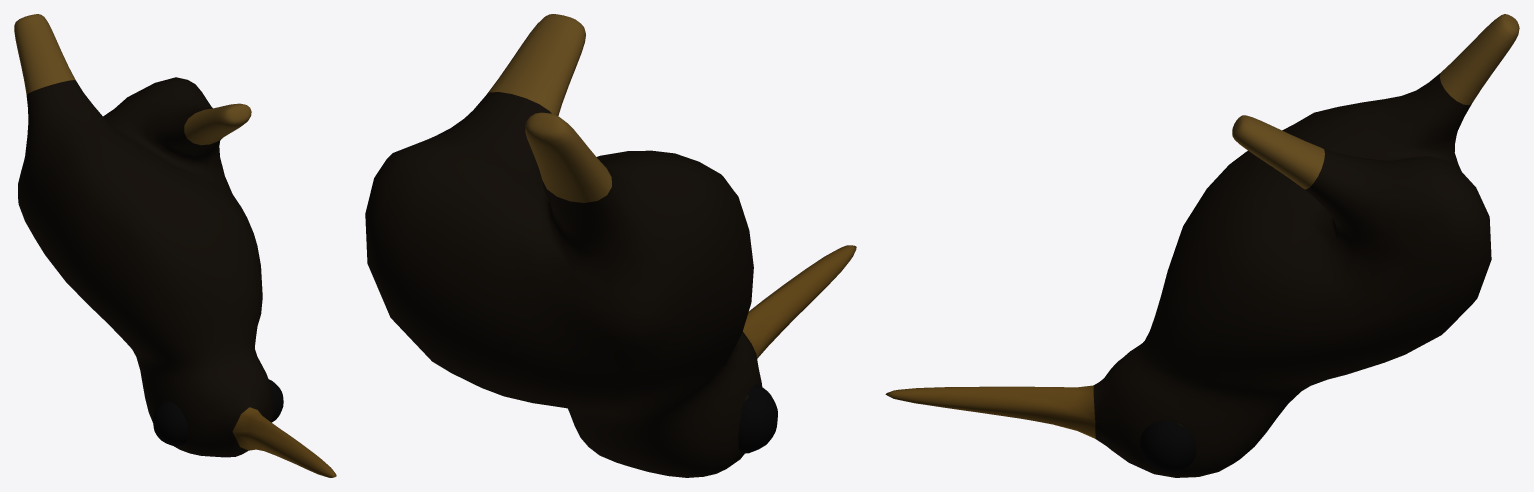
File: kiwi3.obj
3 views of the same model, side by side, from view 1: azimuth 30°, elevation 25°; view 2: azimuth 150°, elevation 25°; view 3: azimuth 270°, elevation 25° (orthographic). The views are drawn at different scales.
Parts seen in each view (by area): view 1: Cube; view 2: Cube; view 3: Cube.
Part boxes in pixels (x1,y1,x2,y2): Cube: (14, 14, 336, 477); Cube: (365, 14, 856, 477); Cube: (885, 14, 1519, 477).
Size of the model in its own units: 1.01 by 1.74 by 2.38.
